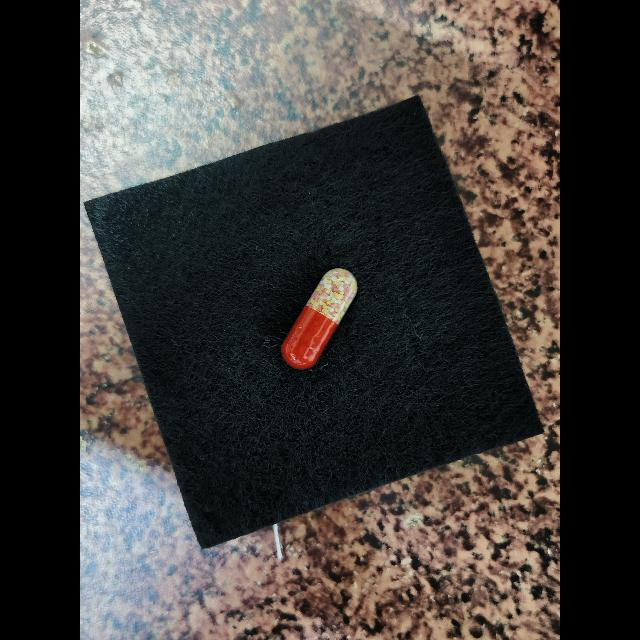Intact Capsule: (281, 268, 357, 369)
